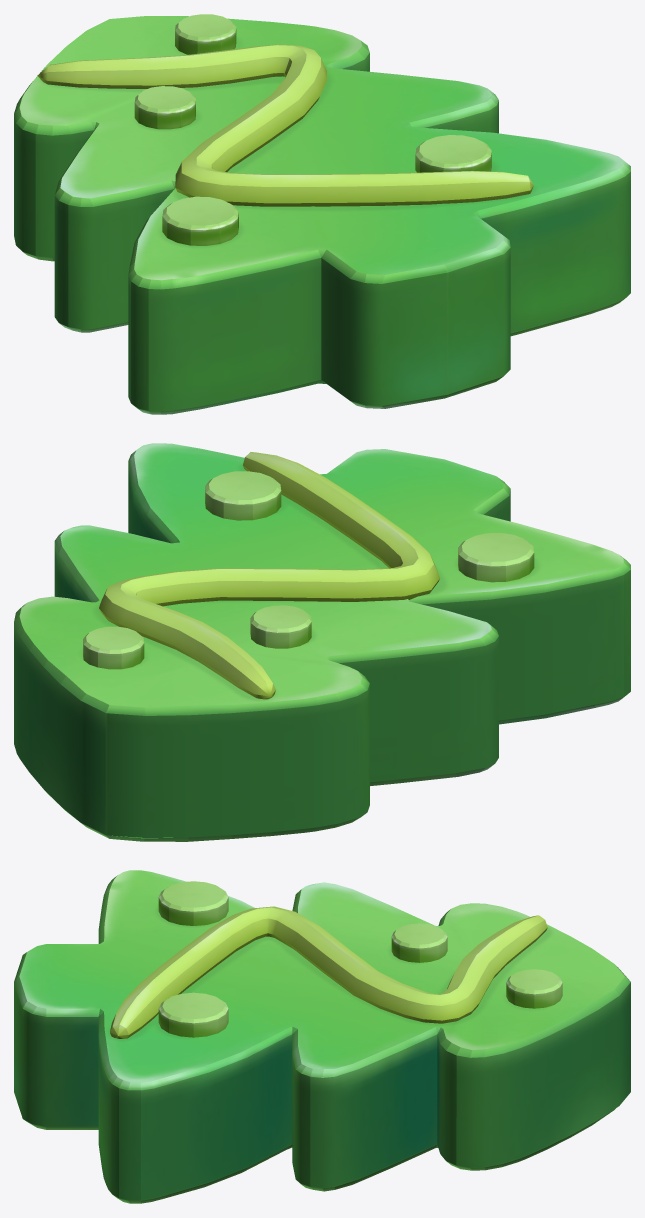
Rendered from 新糖果工厂-道具-糖果10.FBX.
3 views of the same model, one above another, from view 1: azimuth 30°, elevation 25°; view 2: azimuth 150°, elevation 25°; view 3: azimuth 270°, elevation 25° (orthographic). The views are drawn at different scales.
Visible parts, largest first — view 1: 新糖果工厂-道具-糖果10; view 2: 新糖果工厂-道具-糖果10; view 3: 新糖果工厂-道具-糖果10.
Boxes of the visible parts, x1=… form: 新糖果工厂-道具-糖果10: x1=14, y1=14, x2=630, y2=414; 新糖果工厂-道具-糖果10: x1=14, y1=443, x2=630, y2=841; 新糖果工厂-道具-糖果10: x1=14, y1=870, x2=630, y2=1203.
Size of the model in its own units: 7.69 by 2.37 by 9.23.
